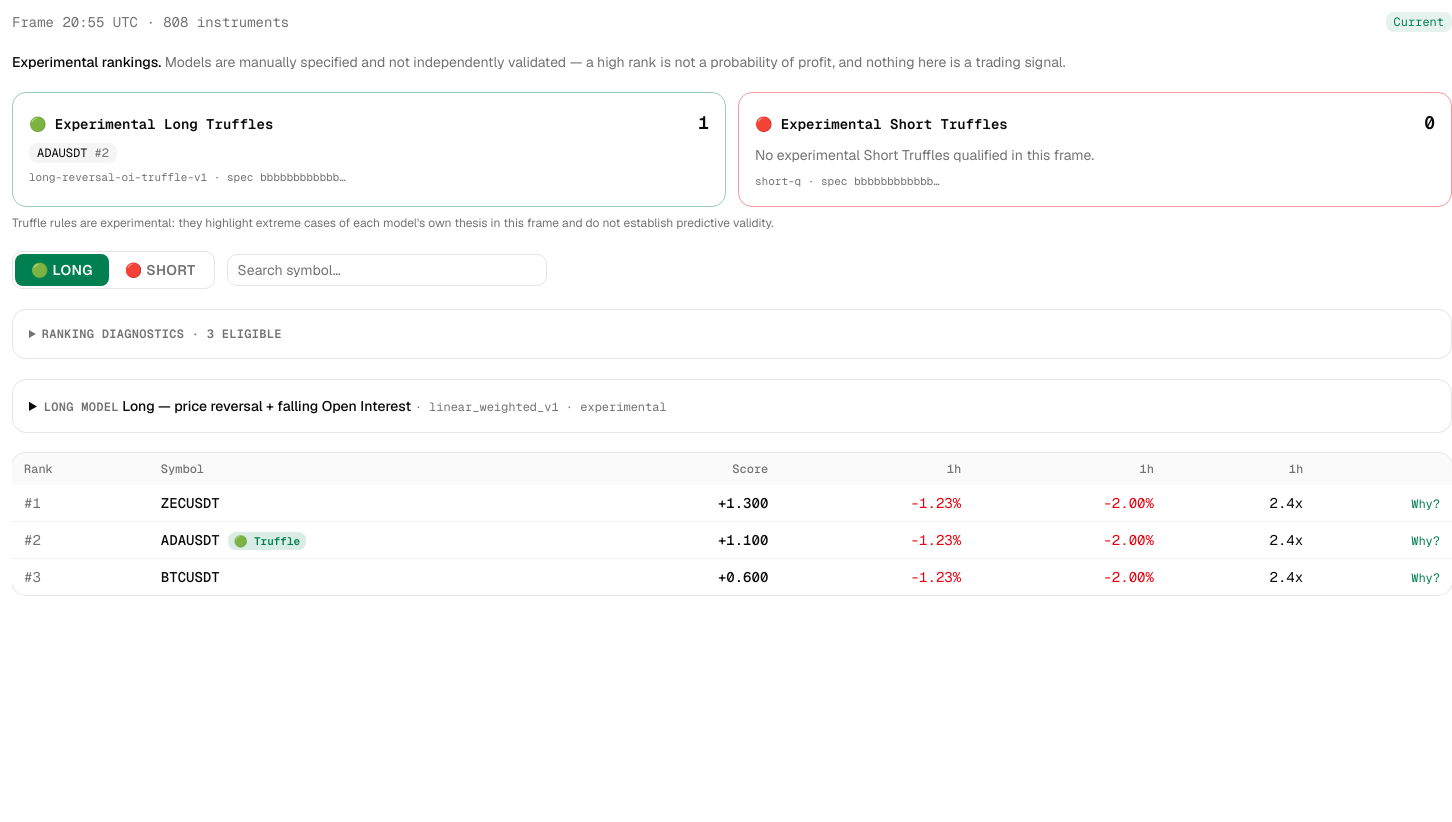
Test: Experimental Truffles › explains why a row did not qualify, including missing inputs
Click the button "Why?" in the row of "BTCUSDT": click(1426, 578) [1411,570,1440,586]
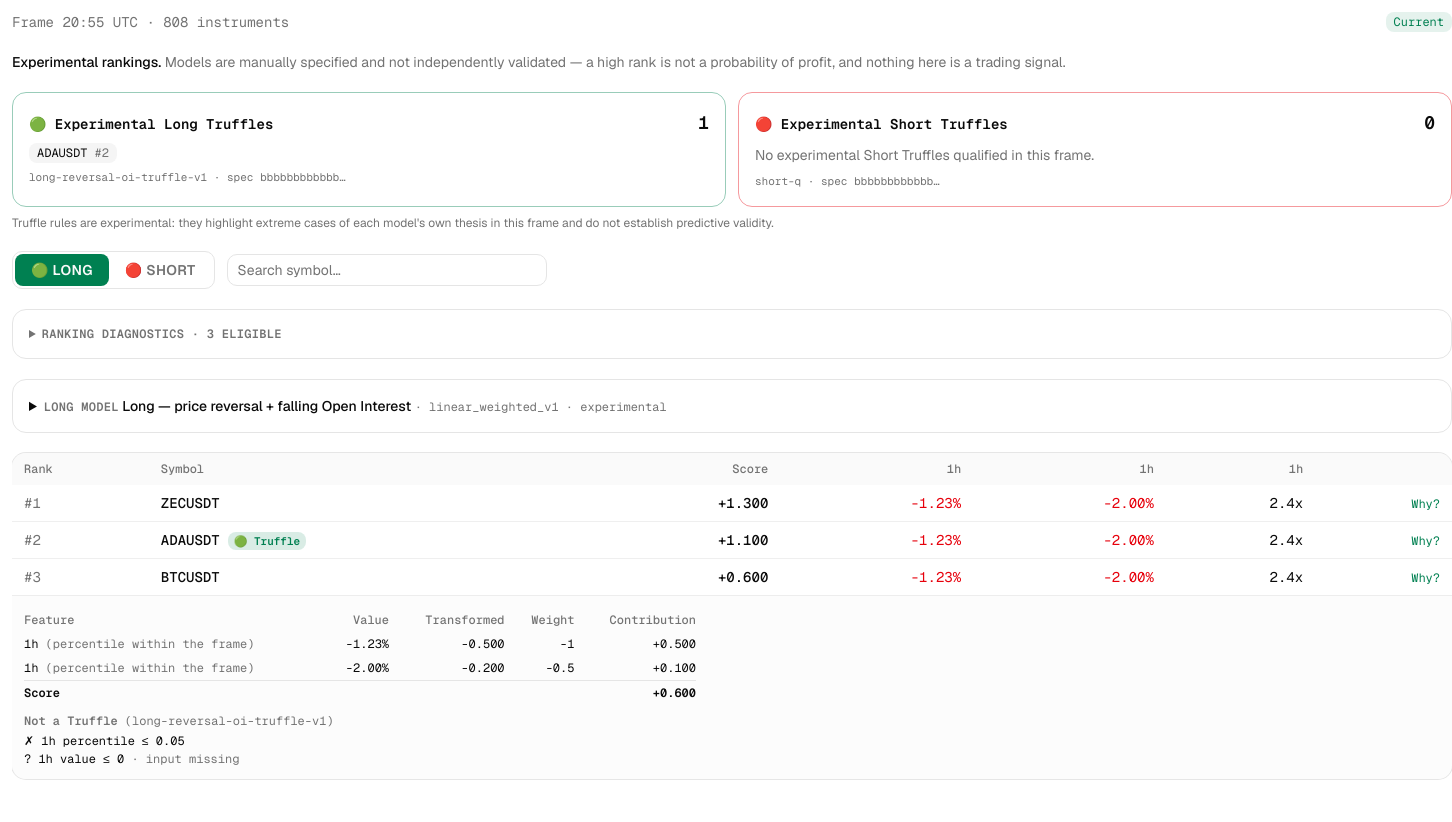
expect the text "Not a Truffle" is shown: met, box [24,712,118,728]
expect the list item "✗ 1h percentile ≤ 0.05" is shown: met, box [24,732,185,748]
expect the list item "? 1h value ≤ 0 · input missing" is shown: met, box [24,750,239,766]
